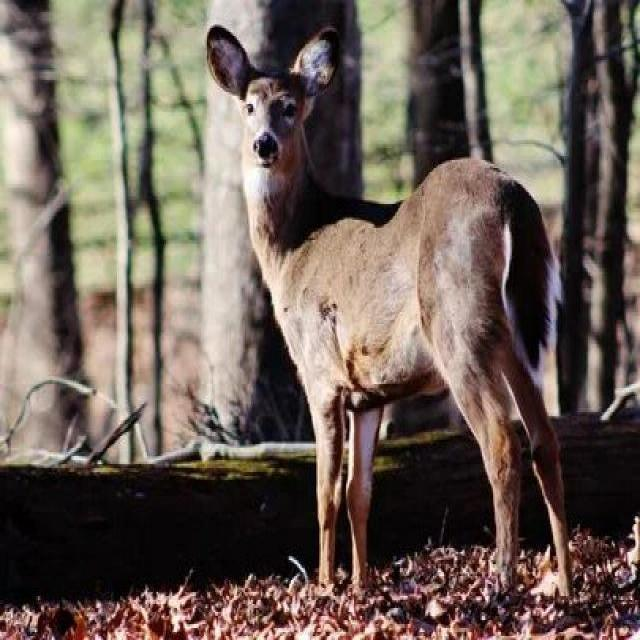deer: (184, 17, 588, 611)
